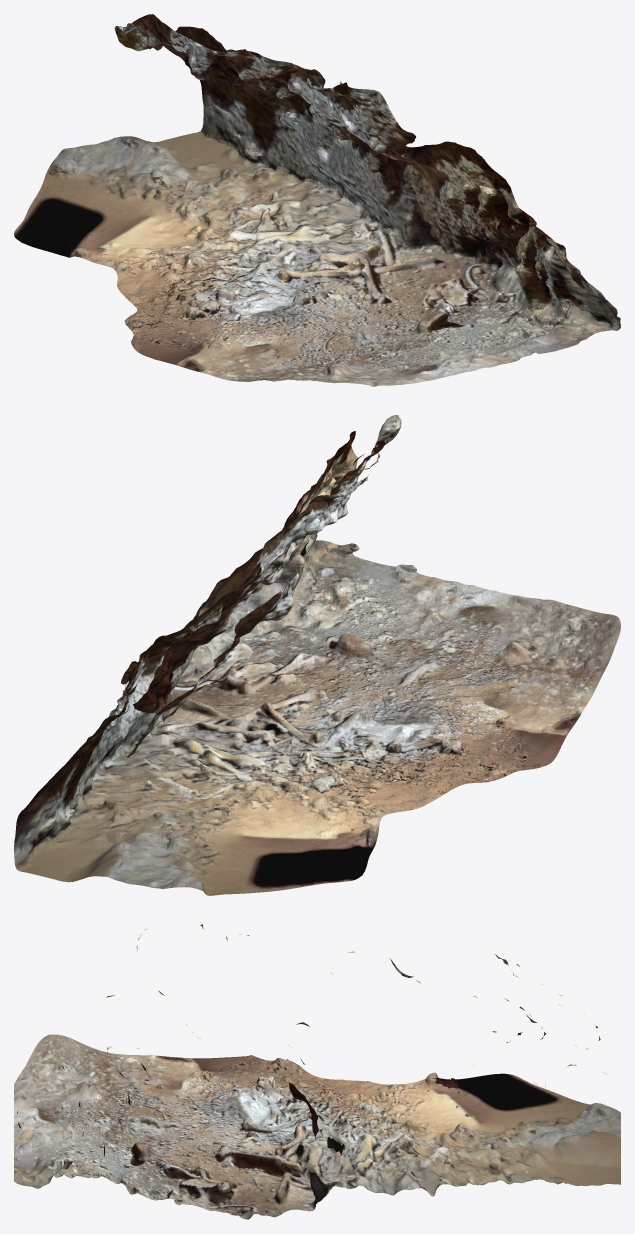
Rendered from bones.glb.
3 views of the same model, one above another, from view 1: azimuth 30°, elevation 25°; view 2: azimuth 150°, elevation 25°; view 3: azimuth 270°, elevation 25° (orthographic). The views are drawn at different scales.
Size of the model in its own units: 0.8614 by 0.5809 by 1.42.
Materials: 1 (1 with a texture image).
